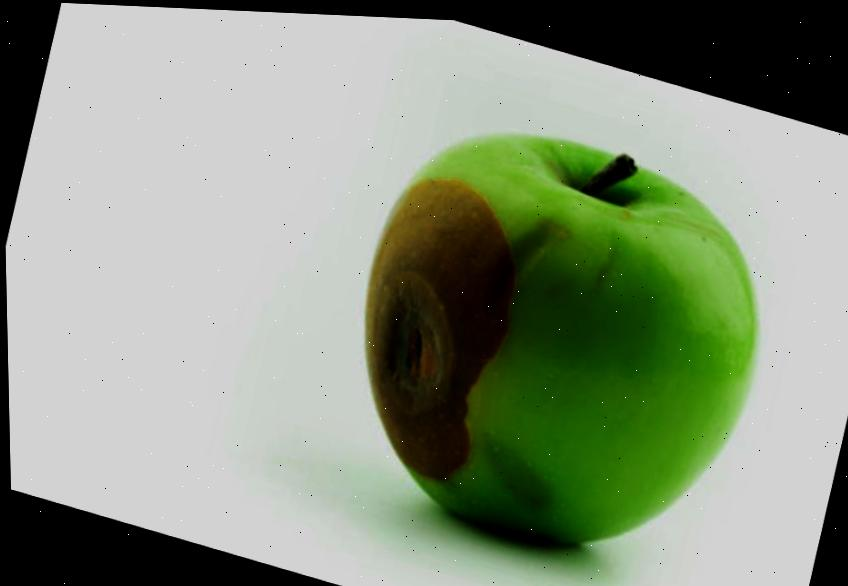ROT: (299, 63, 821, 586)
